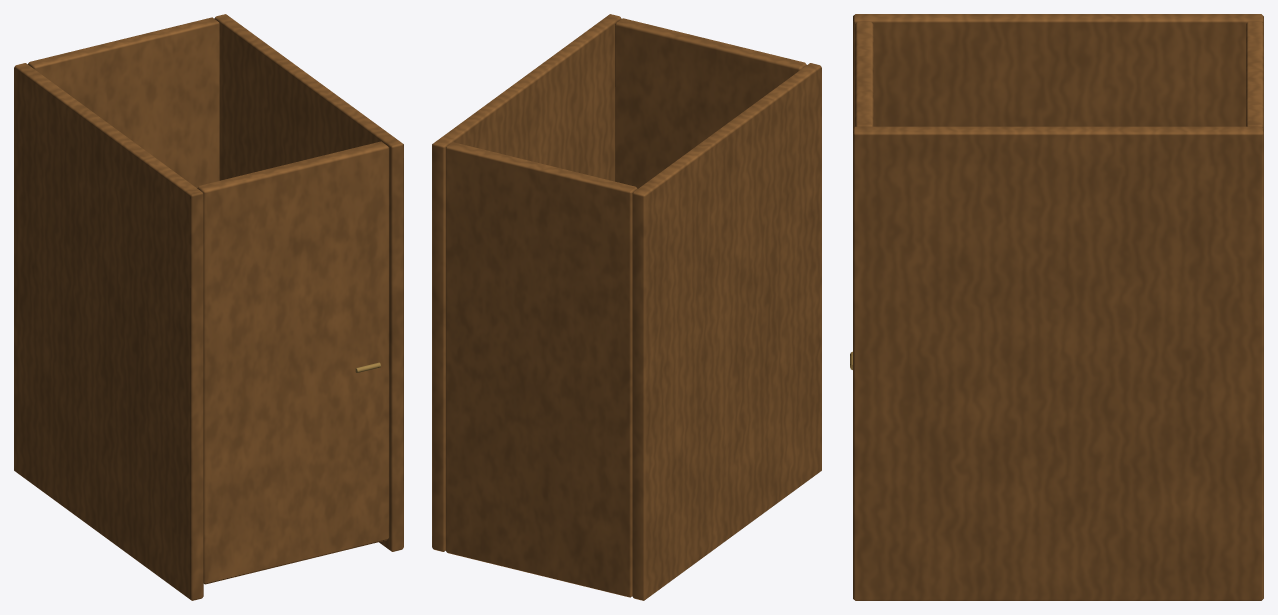
The model's file is Furn_ToiletStall.fbx.
3 renders of one model, left to right at view 1: azimuth 30°, elevation 25°; view 2: azimuth 150°, elevation 25°; view 3: azimuth 270°, elevation 25°, orthographic. The views are drawn at different scales.
Parts seen in each view (by area): view 1: Furn_ToiletStall_Mesh; view 2: Furn_ToiletStall_Mesh; view 3: Furn_ToiletStall_Mesh.
Part boxes in pixels (box(x1,y1,x2,y2)): Furn_ToiletStall_Mesh: box(14, 14, 403, 600); Furn_ToiletStall_Mesh: box(432, 14, 821, 600); Furn_ToiletStall_Mesh: box(850, 14, 1263, 600).
Bounding box in the file's own units: 1.1 × 2 × 1.6.
2 materials, 2 textured.
